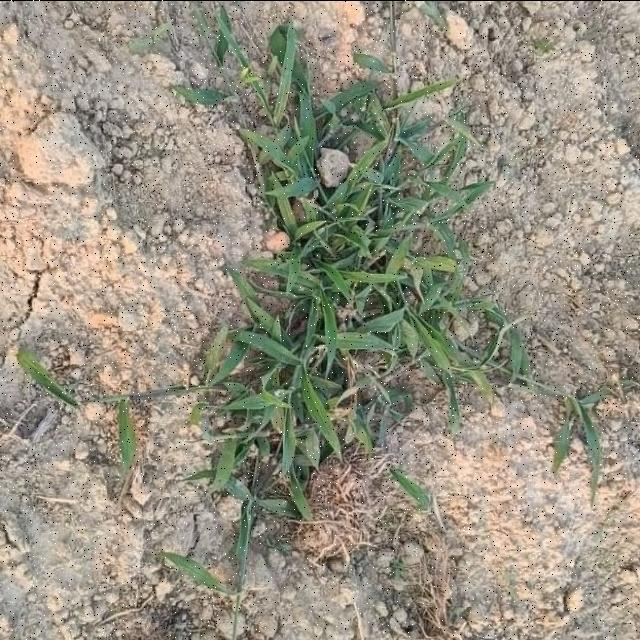weed: (195, 10, 542, 517)
